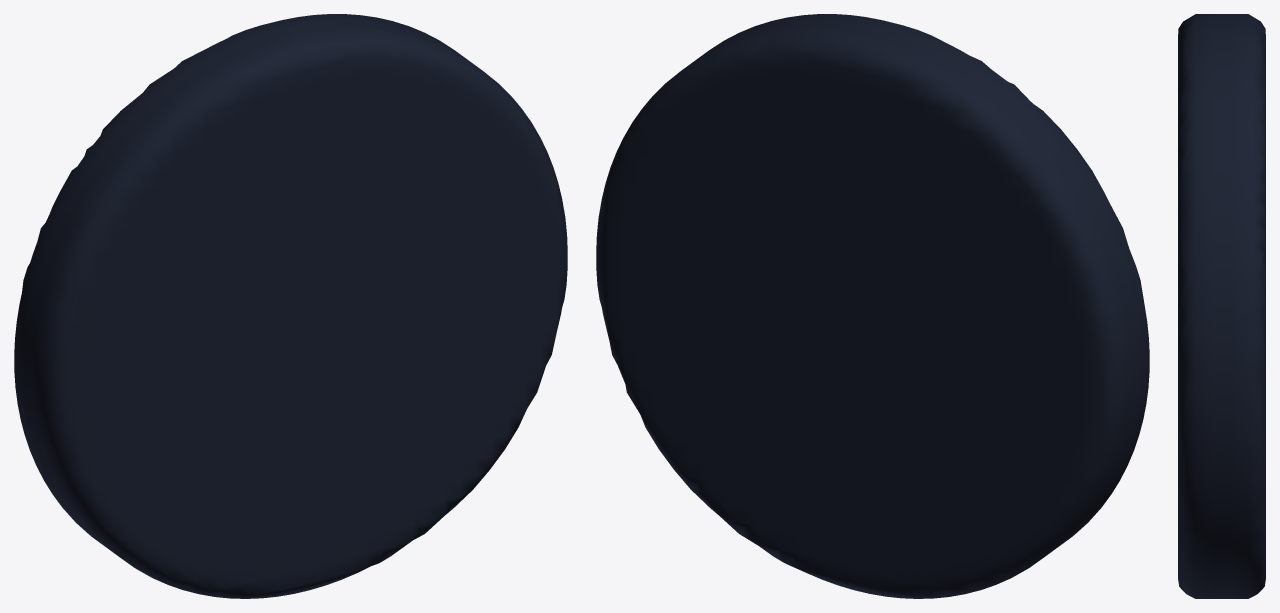
File: 016_rgb_main_camera_optical_cover.glb
The picture shows the model from 3 angles, left to right: view 1: azimuth 30°, elevation 25°; view 2: azimuth 150°, elevation 25°; view 3: azimuth 270°, elevation 25°; orthographic projection. The views are drawn at different scales.
Visible parts, largest first — view 1: 016 | RGB Main Camera Optical Cover; view 2: 016 | RGB Main Camera Optical Cover; view 3: 016 | RGB Main Camera Optical Cover.
Boxes of the visible parts, x1,y1,x2,y2 form: 016 | RGB Main Camera Optical Cover: (14, 14, 567, 598); 016 | RGB Main Camera Optical Cover: (596, 14, 1149, 598); 016 | RGB Main Camera Optical Cover: (1178, 14, 1265, 598).
Size of the model in its own units: 0.004 by 0.004 by 0.0006.
